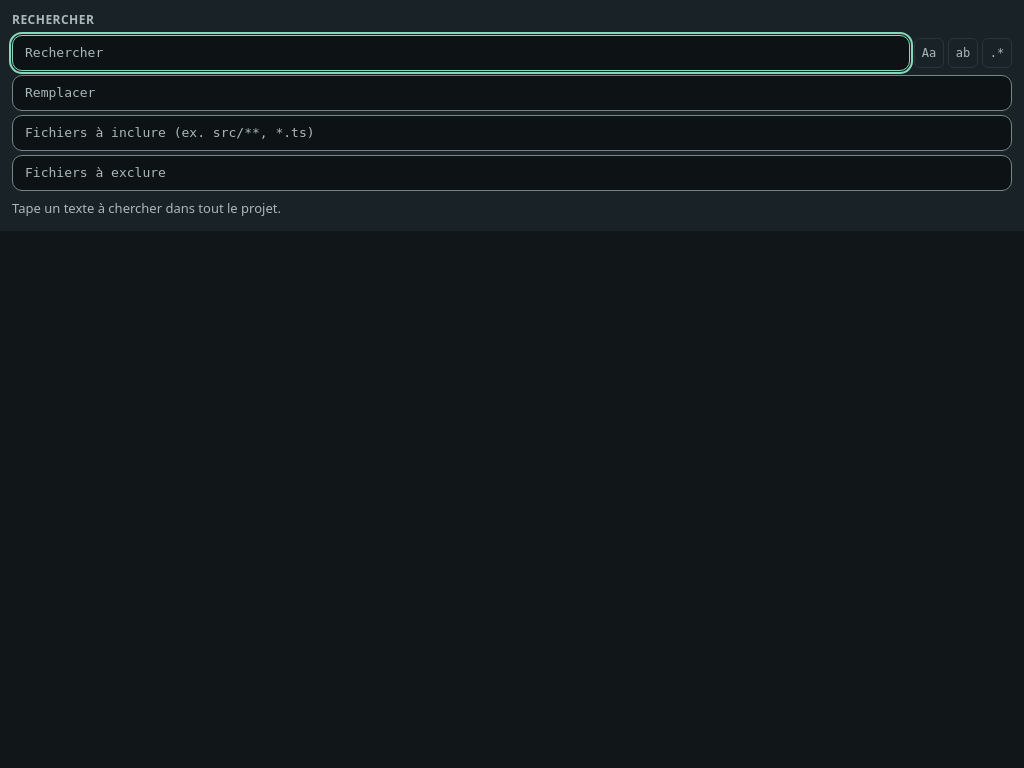
Test: ProjectSearch › replaces after a preview, with the hash just read, skipping dirty buffers and reporting conflicts
Type "todo" into the field labelled "Rechercher" at (461, 53), box [12,35,910,71]
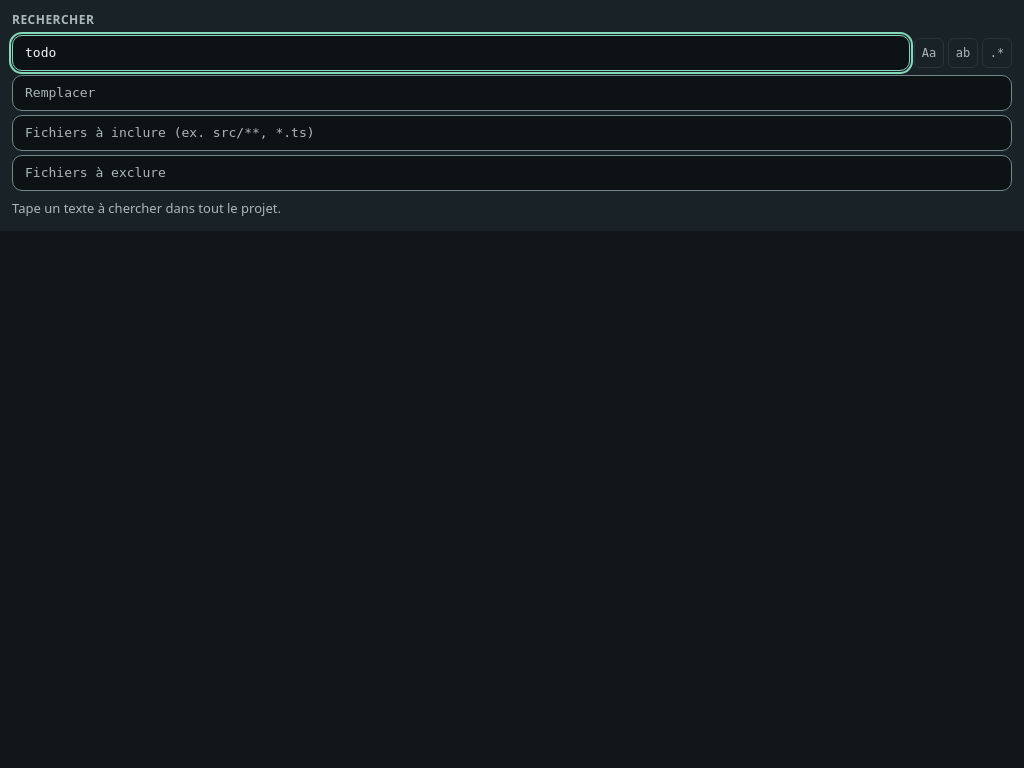
Submit the form named "Rechercher", box [12,35,1012,191]
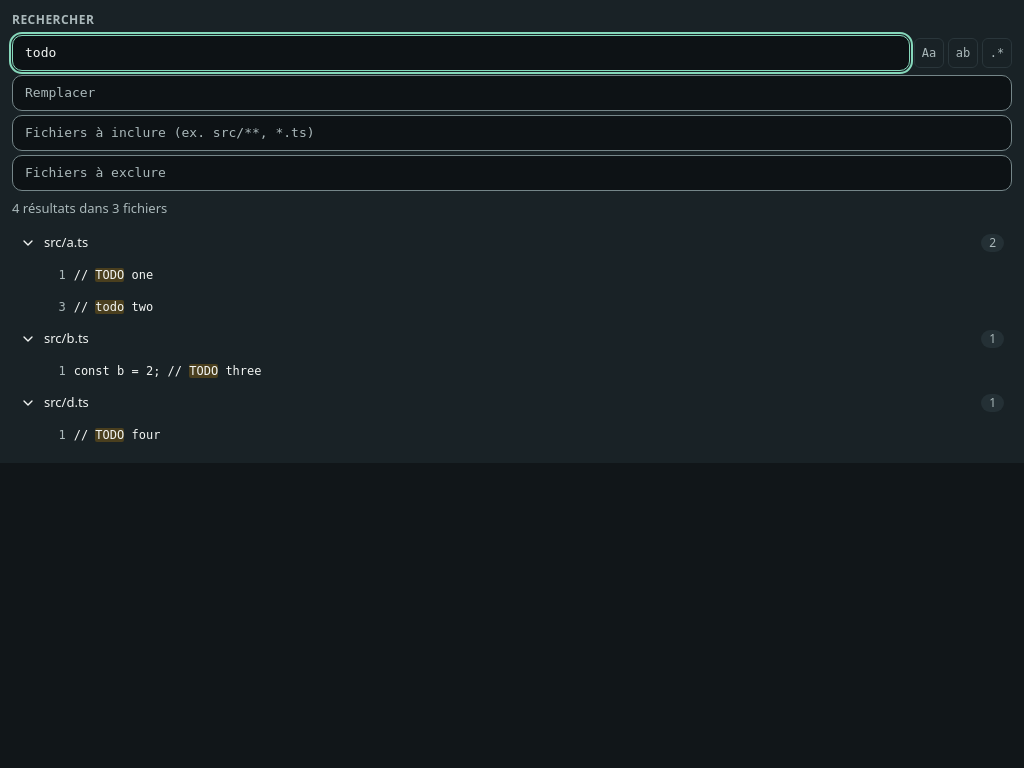
Now the text "4 résultats dans 3 fichiers" is shown, box [12,199,167,217]
Type "DONE" into the field labelled "Remplacer" at (512, 93), box [12,75,1012,111]
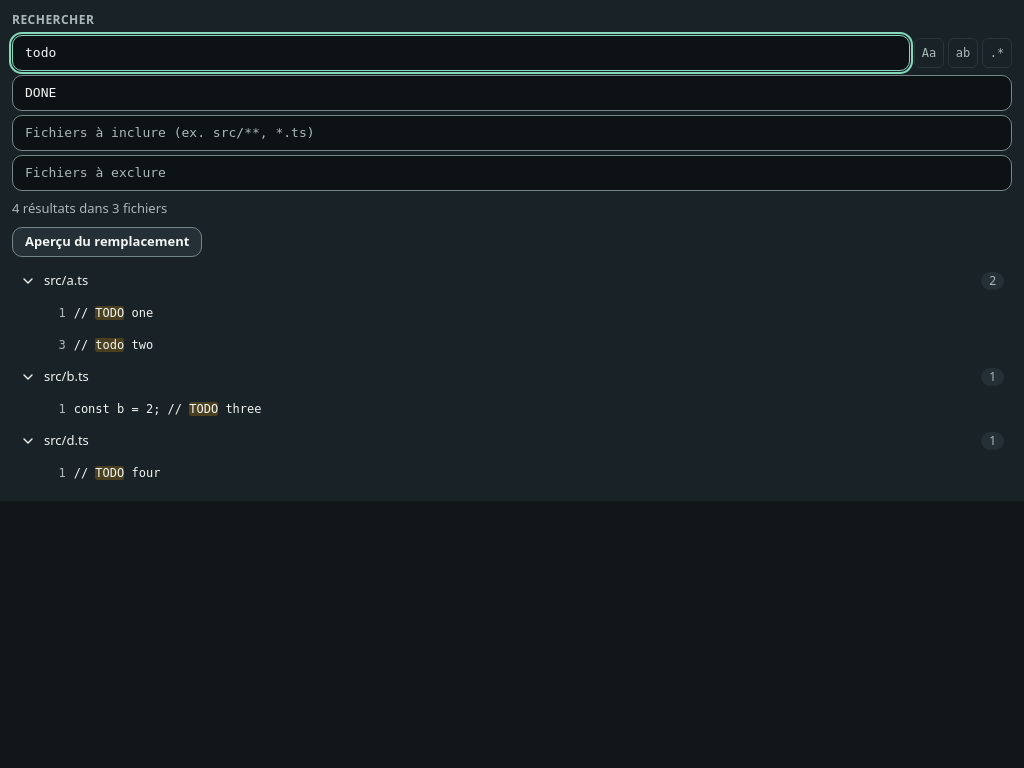
Click the button "Aperçu du remplacement" at (107, 242), box [12,226,202,256]
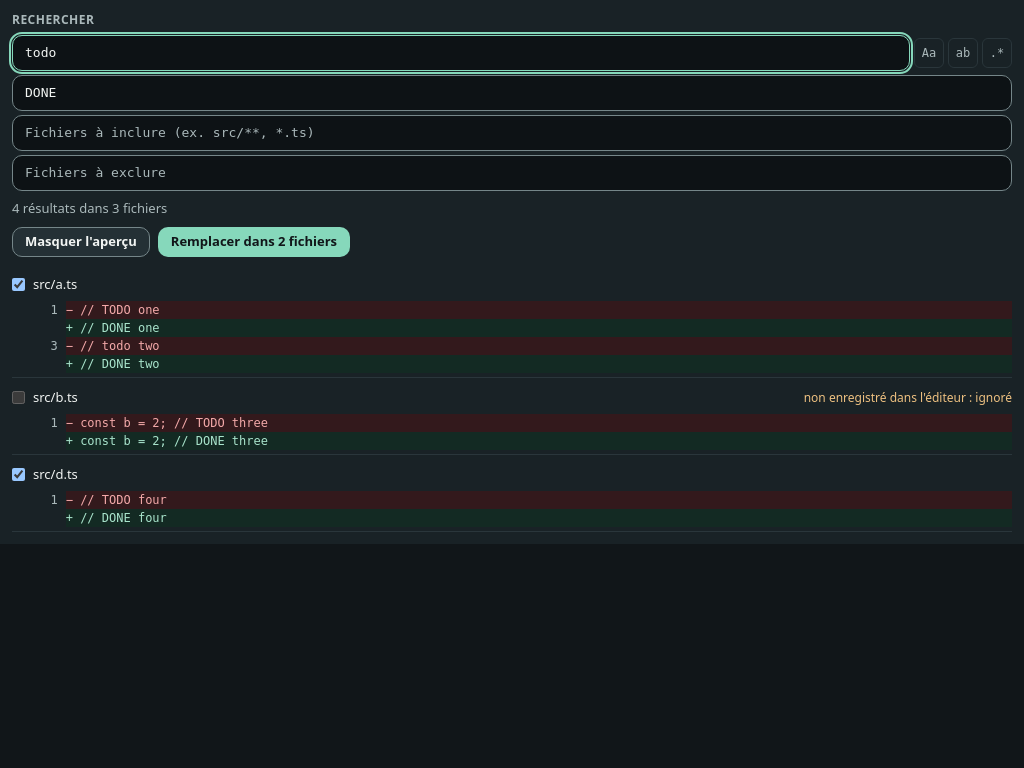
Now the text "// DONE one" is shown, box [66,318,1012,336]
Now the text "non enregistré dans l'éditeur : ignoré" is shown, box [804,388,1012,406]
Now the checkbox named "Inclure src/b.ts" is disabled, box [12,391,25,404]
Click the button "Remplacer dans 2 fichiers" at (254, 242), box [158,226,350,256]
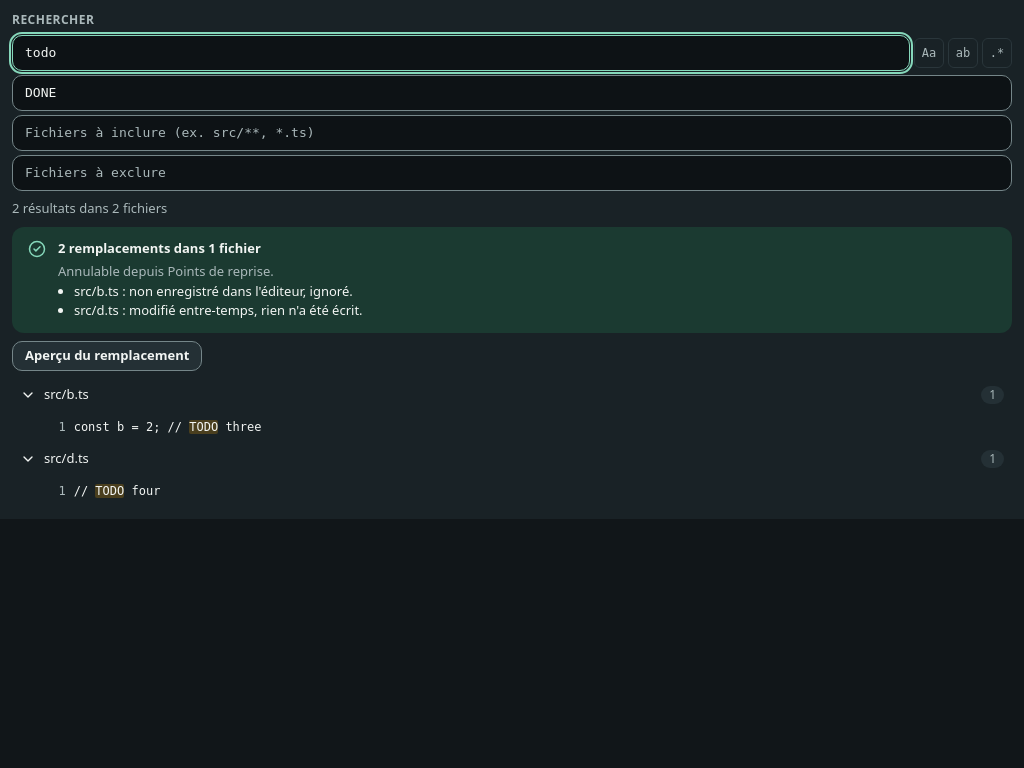
Now the text "2 remplacements dans 1 fichier" is shown, box [58,238,261,256]
Now the list item "src/b.ts : non enregistré dans l'éditeur, ignoré." is shown, box [74,282,353,300]
Now the list item "src/d.ts : modifié entre-temps, rien n'a été écrit." is shown, box [74,301,363,319]
